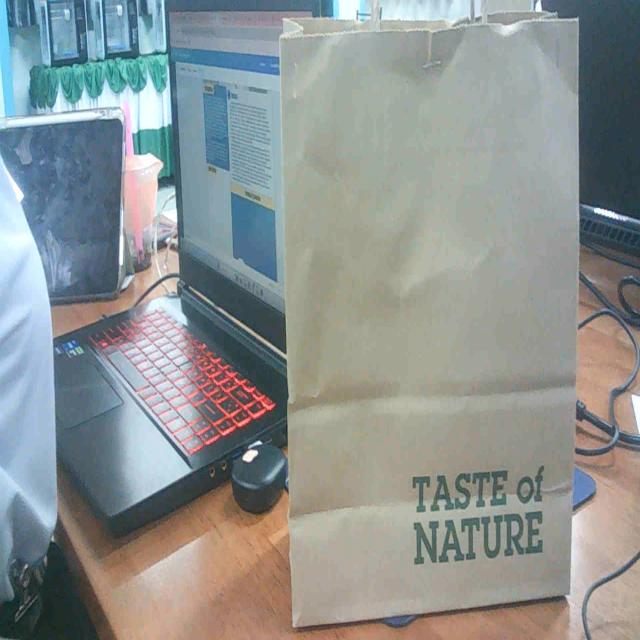bag: (255, 0, 600, 627)
